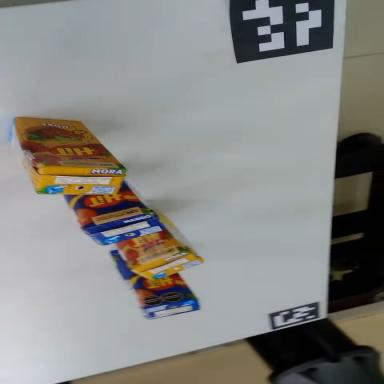HIT-MANGO: (102, 227, 203, 337), (63, 171, 166, 253)
HIT-MORA: (7, 116, 129, 200), (115, 223, 205, 287)
cara_F: (106, 226, 196, 326), (12, 117, 129, 172), (62, 175, 153, 232), (115, 221, 182, 273)
